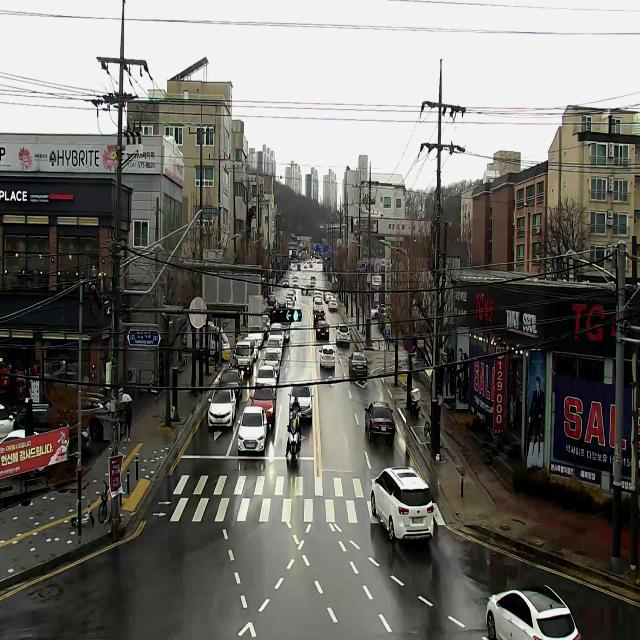Car: (485, 584, 581, 640), (371, 466, 434, 541), (12, 412, 92, 460), (0, 429, 45, 478), (74, 392, 110, 442), (238, 407, 268, 453), (364, 401, 396, 442), (208, 389, 236, 429), (288, 382, 314, 422), (250, 384, 276, 419), (218, 370, 242, 402), (256, 365, 277, 398), (233, 341, 255, 372), (348, 351, 368, 378), (262, 350, 280, 376), (268, 324, 284, 351), (265, 338, 283, 362), (319, 345, 336, 369), (247, 327, 264, 348), (336, 322, 351, 343), (244, 337, 258, 359), (316, 321, 330, 340), (314, 309, 326, 327), (372, 304, 386, 319), (301, 284, 315, 296), (313, 300, 324, 314), (262, 321, 269, 338), (286, 291, 294, 304), (328, 299, 338, 309), (262, 316, 270, 328), (313, 292, 322, 302), (325, 292, 333, 302), (278, 301, 286, 309), (290, 290, 296, 300), (284, 299, 294, 304), (282, 280, 289, 287), (310, 276, 316, 284), (292, 279, 298, 287), (323, 292, 329, 300), (286, 304, 294, 309), (292, 275, 299, 280), (306, 259, 312, 264), (297, 264, 301, 270), (309, 264, 313, 268), (304, 264, 307, 268)
Motorcycle: (285, 397, 302, 471)
Truck: (187, 317, 231, 360), (280, 322, 292, 341), (266, 295, 278, 309)
